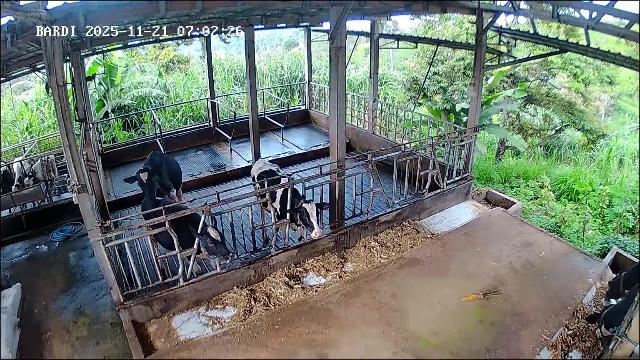mounting: (122, 150, 184, 209)
